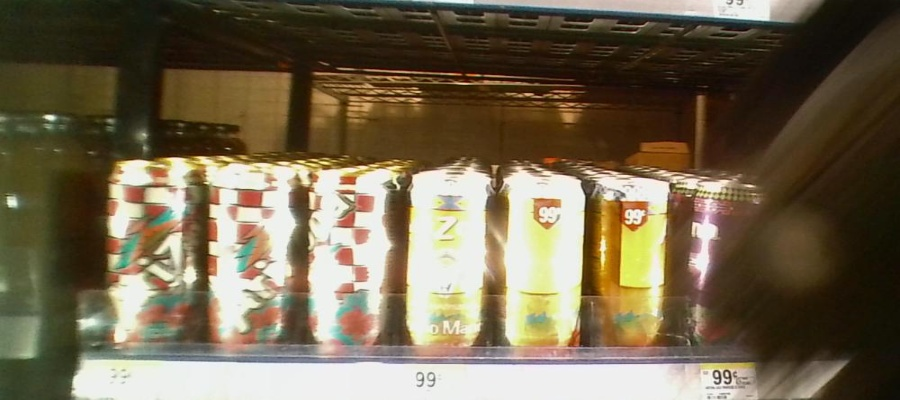bottle: (100, 154, 205, 356), (303, 153, 399, 355), (401, 155, 487, 366), (211, 155, 301, 355), (494, 168, 587, 359), (590, 159, 669, 356)
